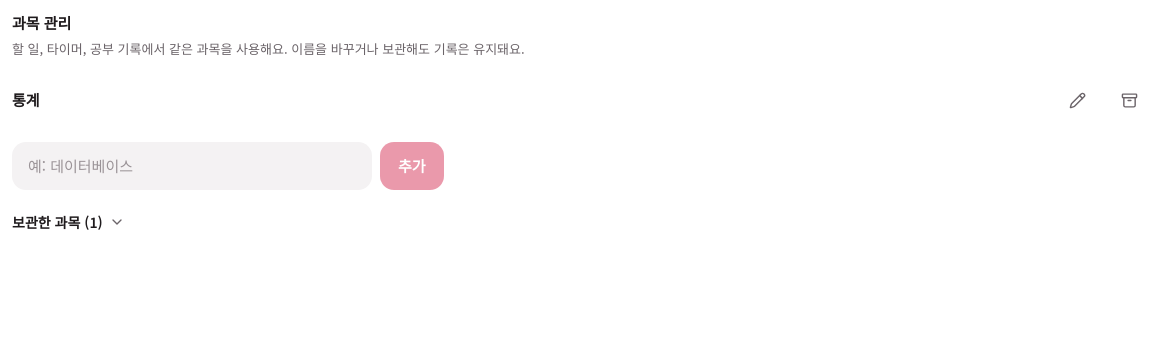
it: SubjectManager 과목 보관 › shows a restore failure once on a failed result and keeps the row and focus
What coordinates should you click on to do the following:
click the heading "보관한 과목 (1)"
I would click on:
 (68, 222)
Its box is [12,212,125,232].
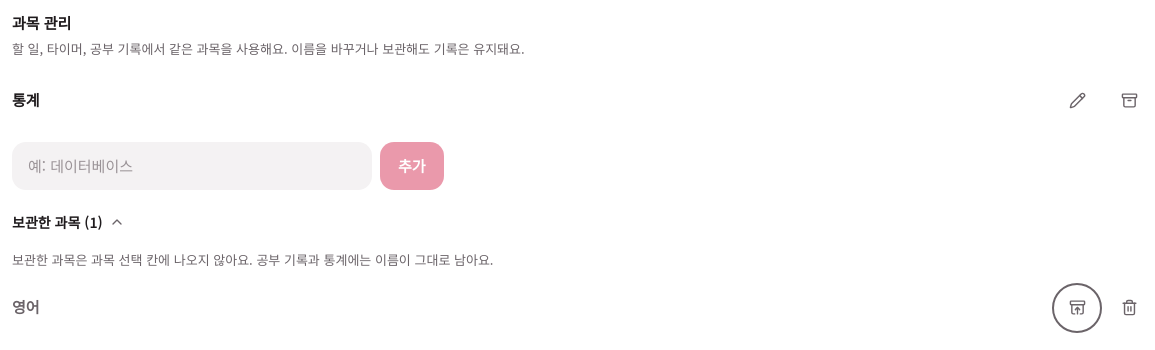
What coordinates should you click on to do the following:
click the button named "영어 다시 사용"
I would click on:
 (1077, 308)
Its box is [1057,288,1097,328].
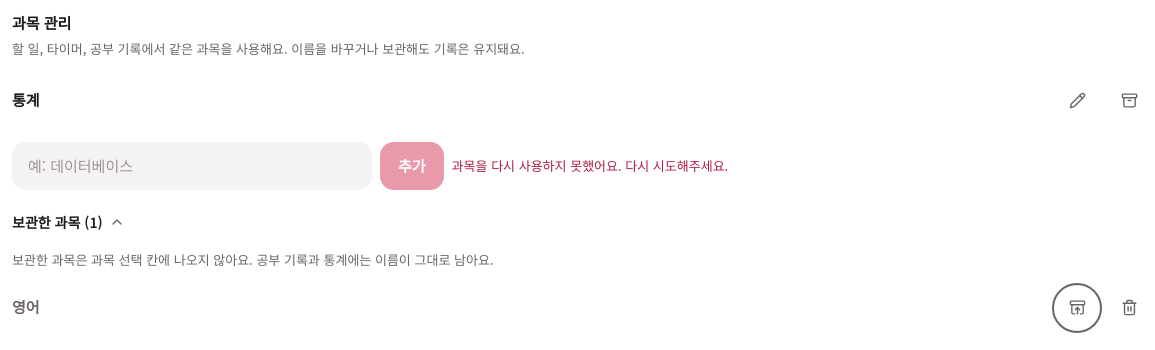
Now the message reads "과목을 다시 사용하지 못했어요. 다시 시도해주세요.", box [452,156,728,175]
Now the number of messages is 1, box [452,157,728,175]
